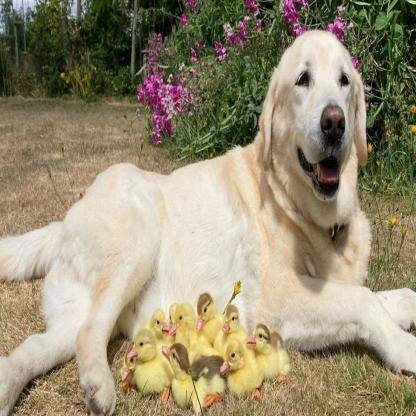dog: (2, 36, 416, 410)
